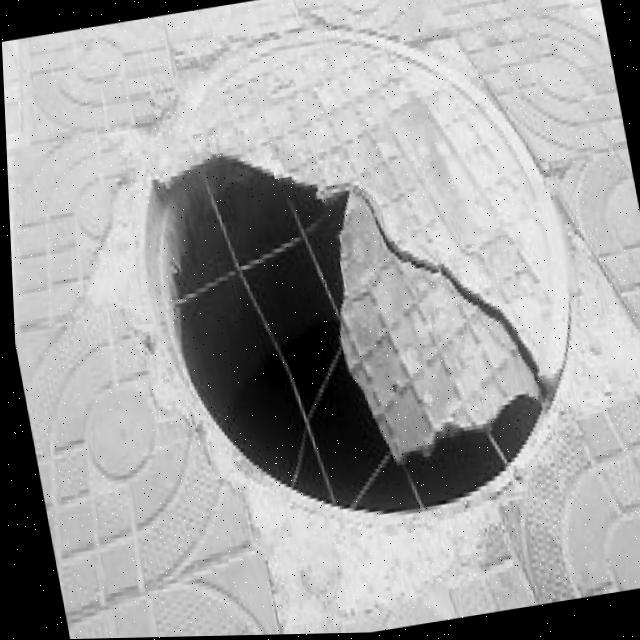manhole: (113, 0, 606, 541)
